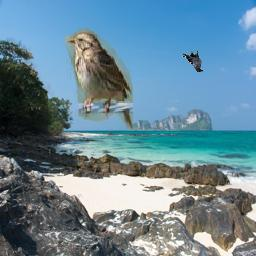Crow: (181, 50, 203, 73)
Sparrow: (63, 29, 133, 132)
